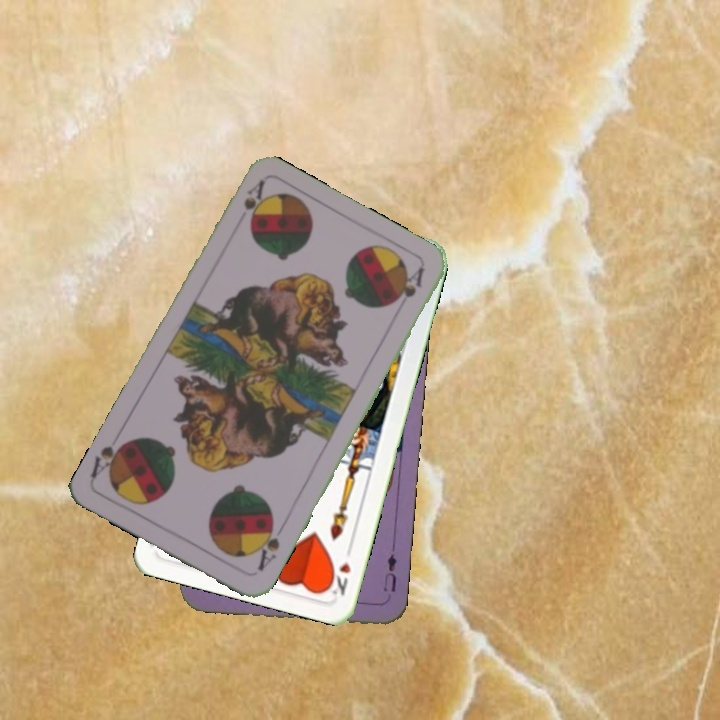EU: (379, 550, 399, 595)
HK: (323, 541, 355, 598)
SA: (251, 516, 282, 574), (239, 176, 268, 228)
